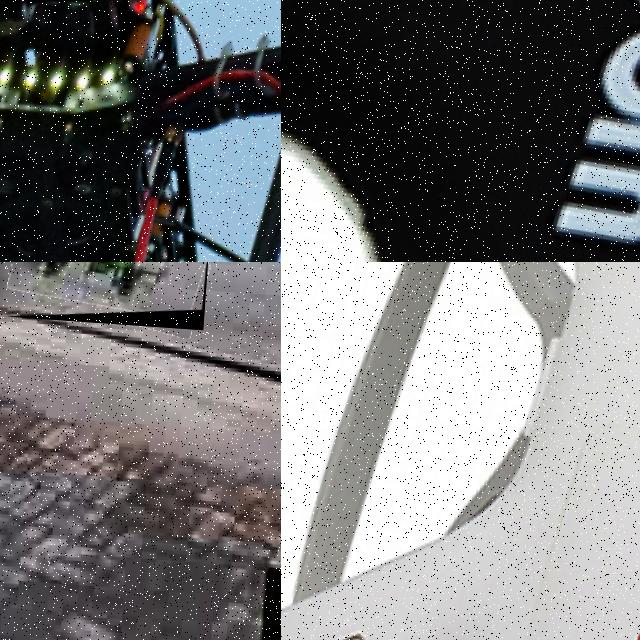0: (7, 262, 209, 329)
drone: (281, 262, 640, 640), (281, 0, 640, 262), (0, 0, 281, 262)
